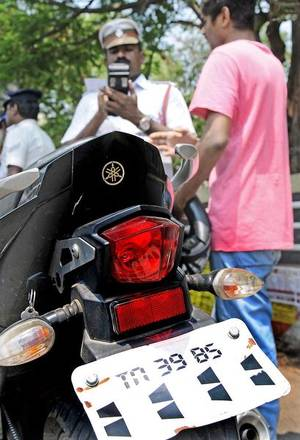number_plate: (58, 314, 294, 440)
